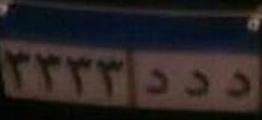3: (96, 52, 125, 104), (2, 47, 32, 91), (64, 52, 93, 96), (34, 50, 62, 92)
daal: (219, 64, 253, 105), (179, 65, 211, 102), (141, 63, 170, 100)
